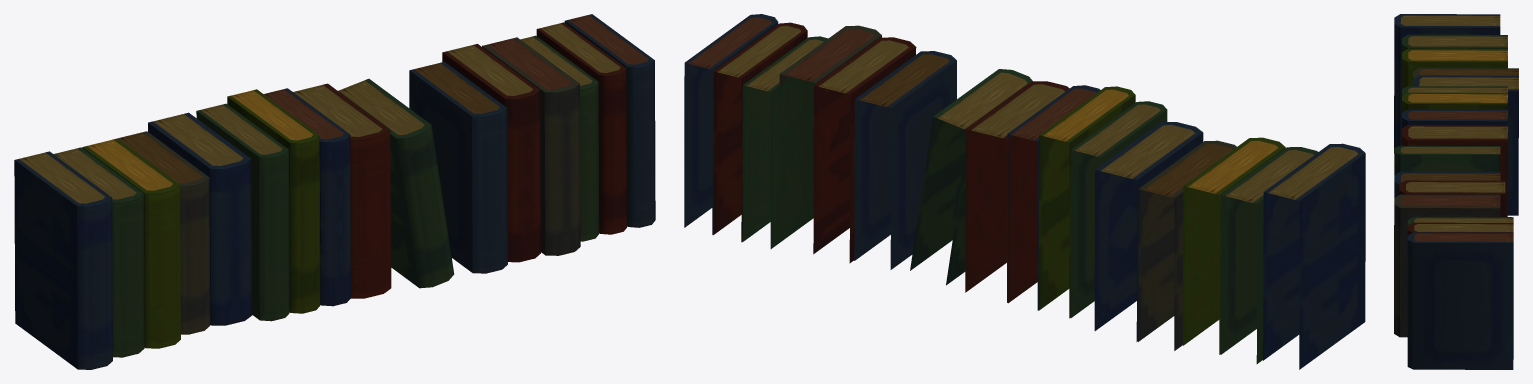
File: bokhog.glb
3 views of the same model, side by side, from view 1: azimuth 30°, elevation 25°; view 2: azimuth 150°, elevation 25°; view 3: azimuth 270°, elevation 25° (orthographic). The views are drawn at different scales.
Visible parts, largest first — view 1: BookGroup_Medium_1; view 2: BookGroup_Medium_1; view 3: BookGroup_Medium_1.
Part boxes in pixels (x1,y1,x2,y2): BookGroup_Medium_1: (14,14,655,369); BookGroup_Medium_1: (684,14,1365,369); BookGroup_Medium_1: (1394,14,1518,369).
Bounding box in the file's own units: 1.06 × 0.2983 × 0.2475.
1 material, 1 textured.
